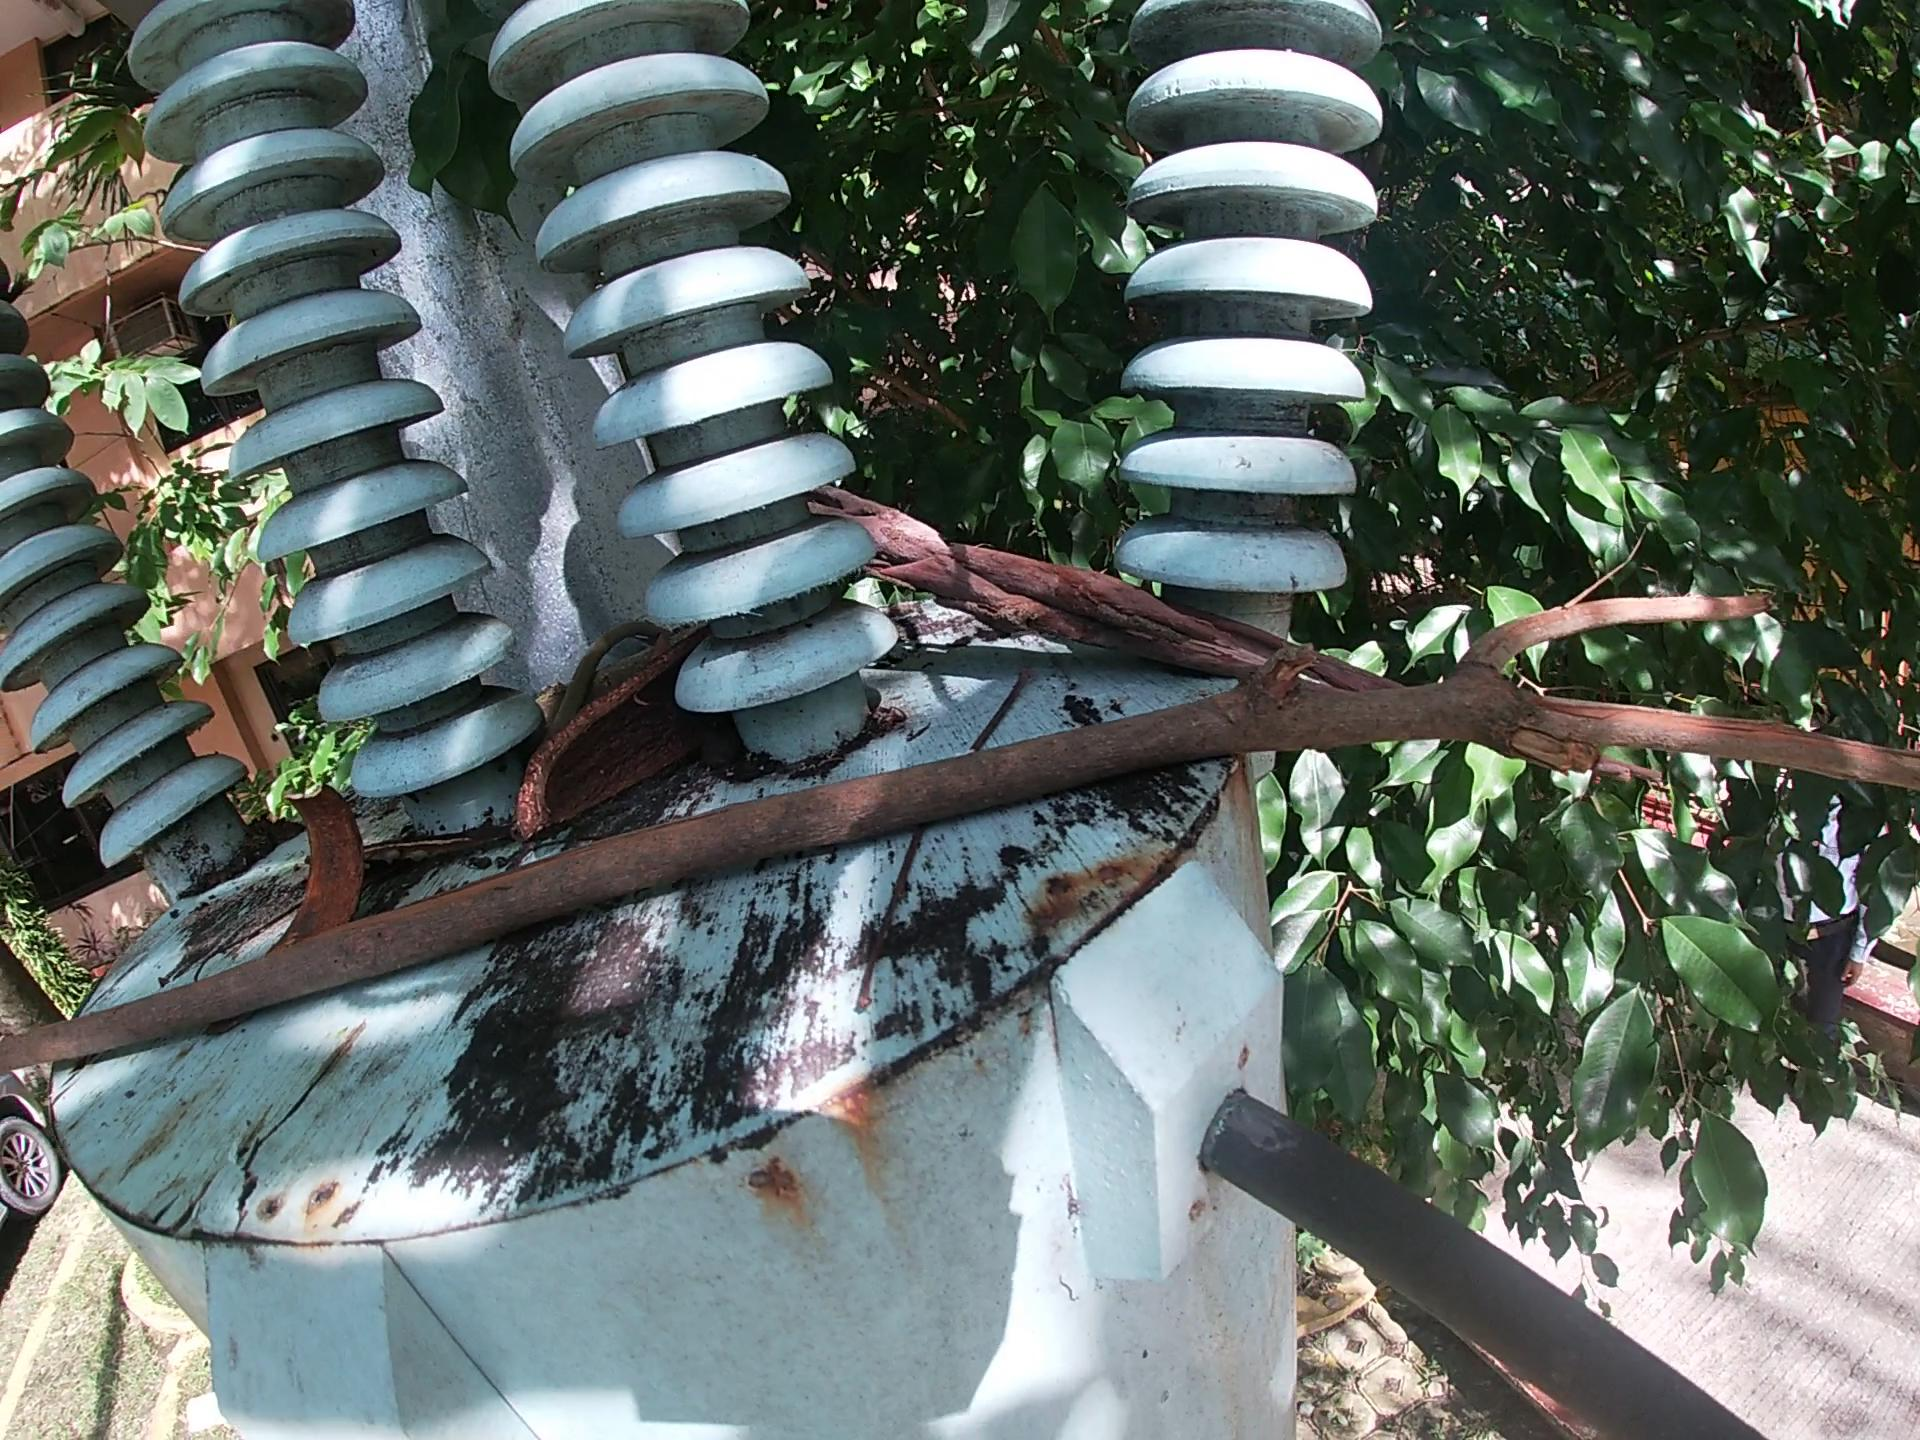mahogany fruit: (506, 631, 708, 843), (280, 779, 370, 942)
tree branch: (2, 563, 1920, 1128), (807, 487, 1395, 691), (827, 818, 952, 1032), (534, 617, 705, 712), (543, 610, 659, 718), (175, 898, 296, 989), (948, 659, 1046, 750), (367, 826, 506, 871)
